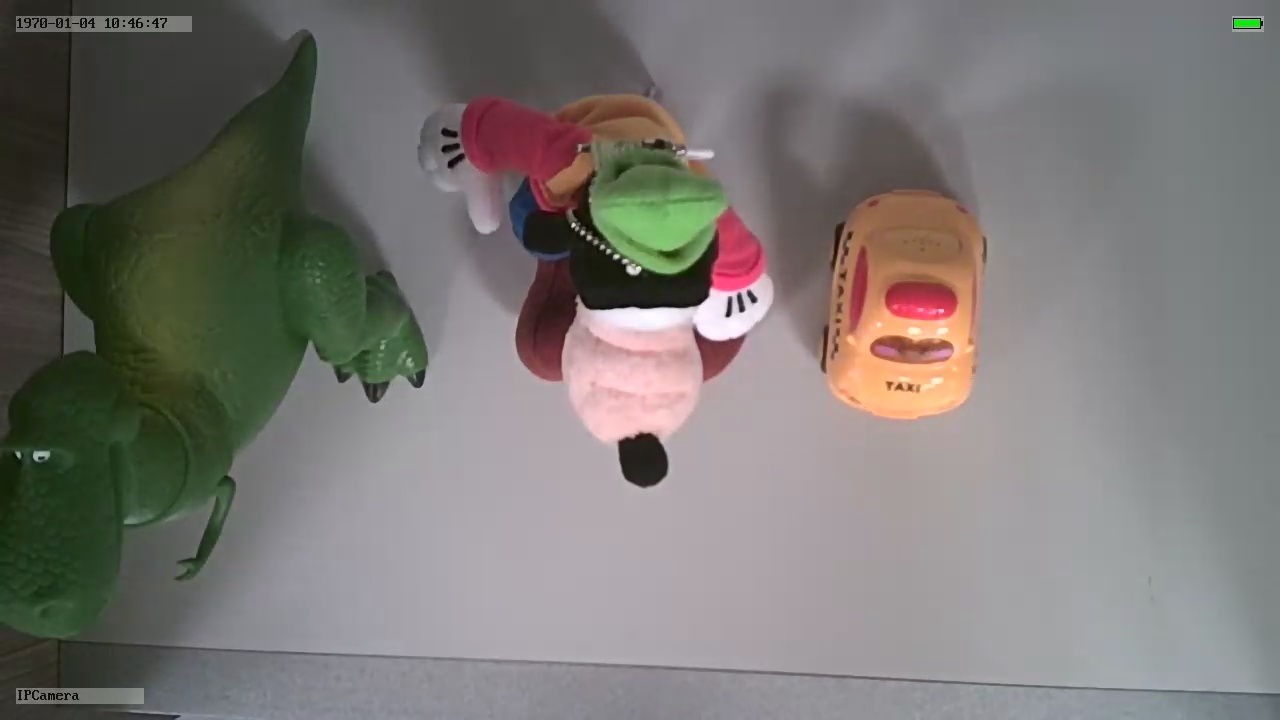car: (812, 181, 991, 426)
goofy: (419, 87, 776, 492)
rex: (1, 145, 428, 641)
